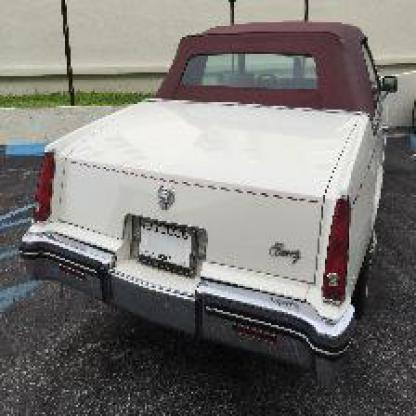not_emergency: (28, 13, 397, 370)
